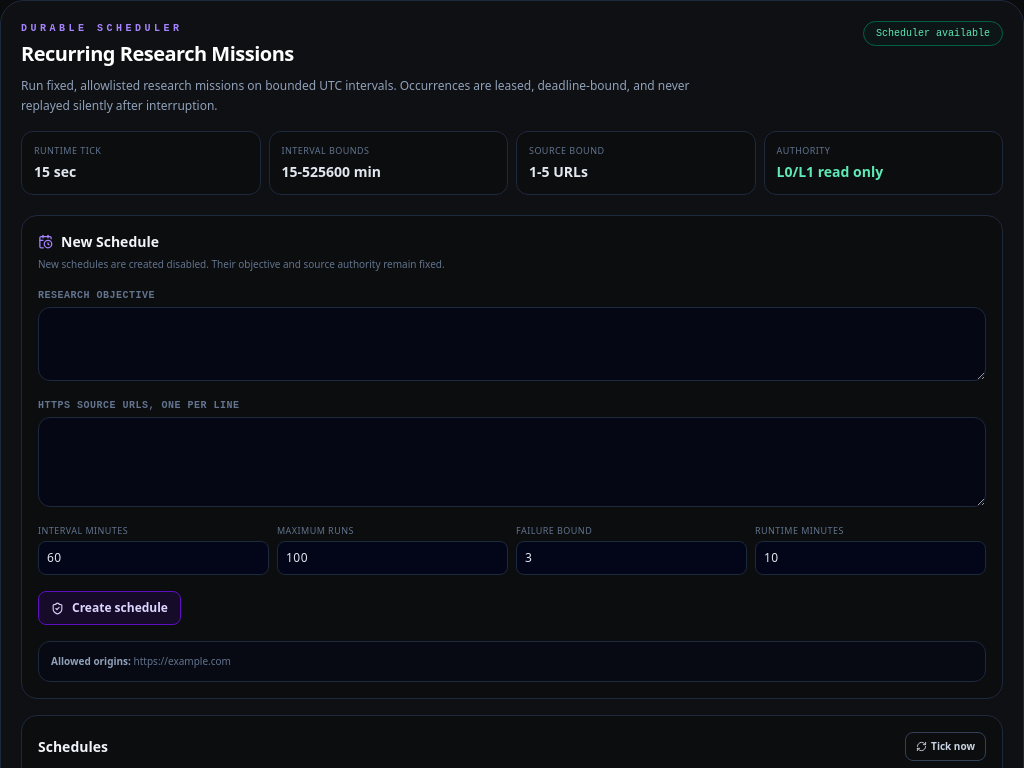
Test: RecurringResearchPanel › clears protected scheduler state when an authenticated action returns 401
Click the button "Tick now" at coordinates (946, 747), box [905,732,986,761]
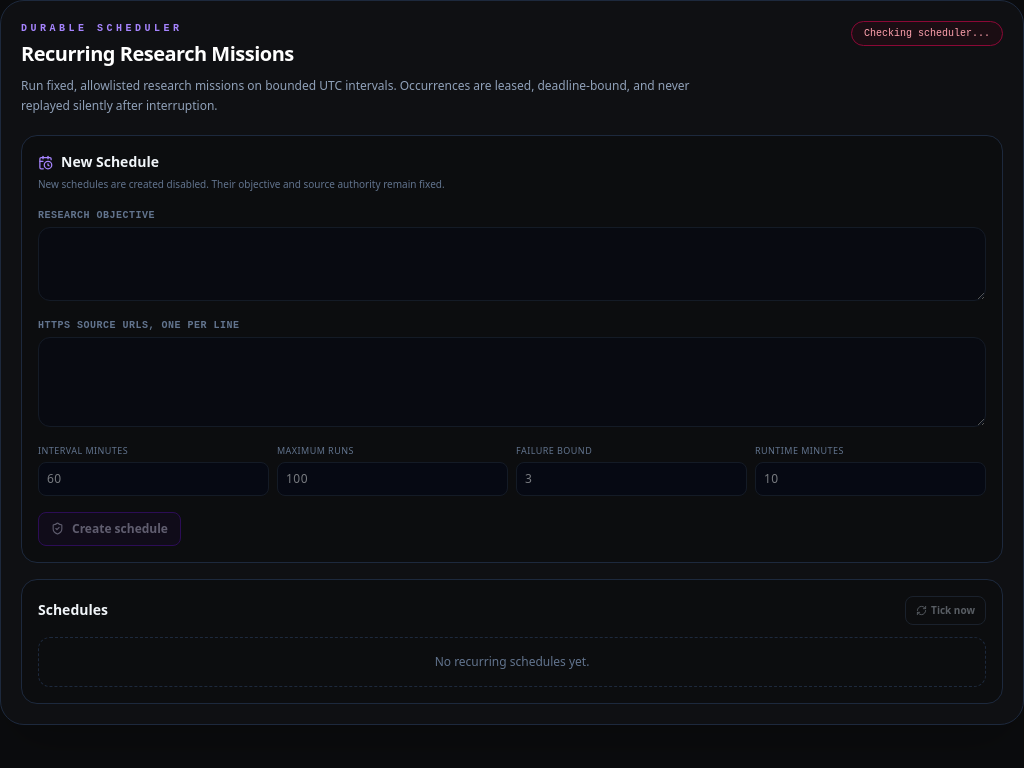
Expected: the button "Create schedule" is disabled, [38,512,181,546]
Expected: the button "Tick now" is disabled, [905,596,986,625]
